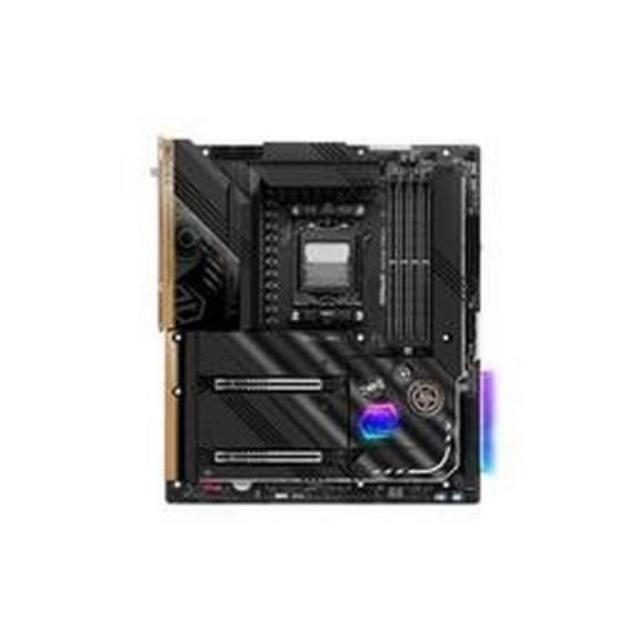Mainboard: (144, 126, 493, 522)
